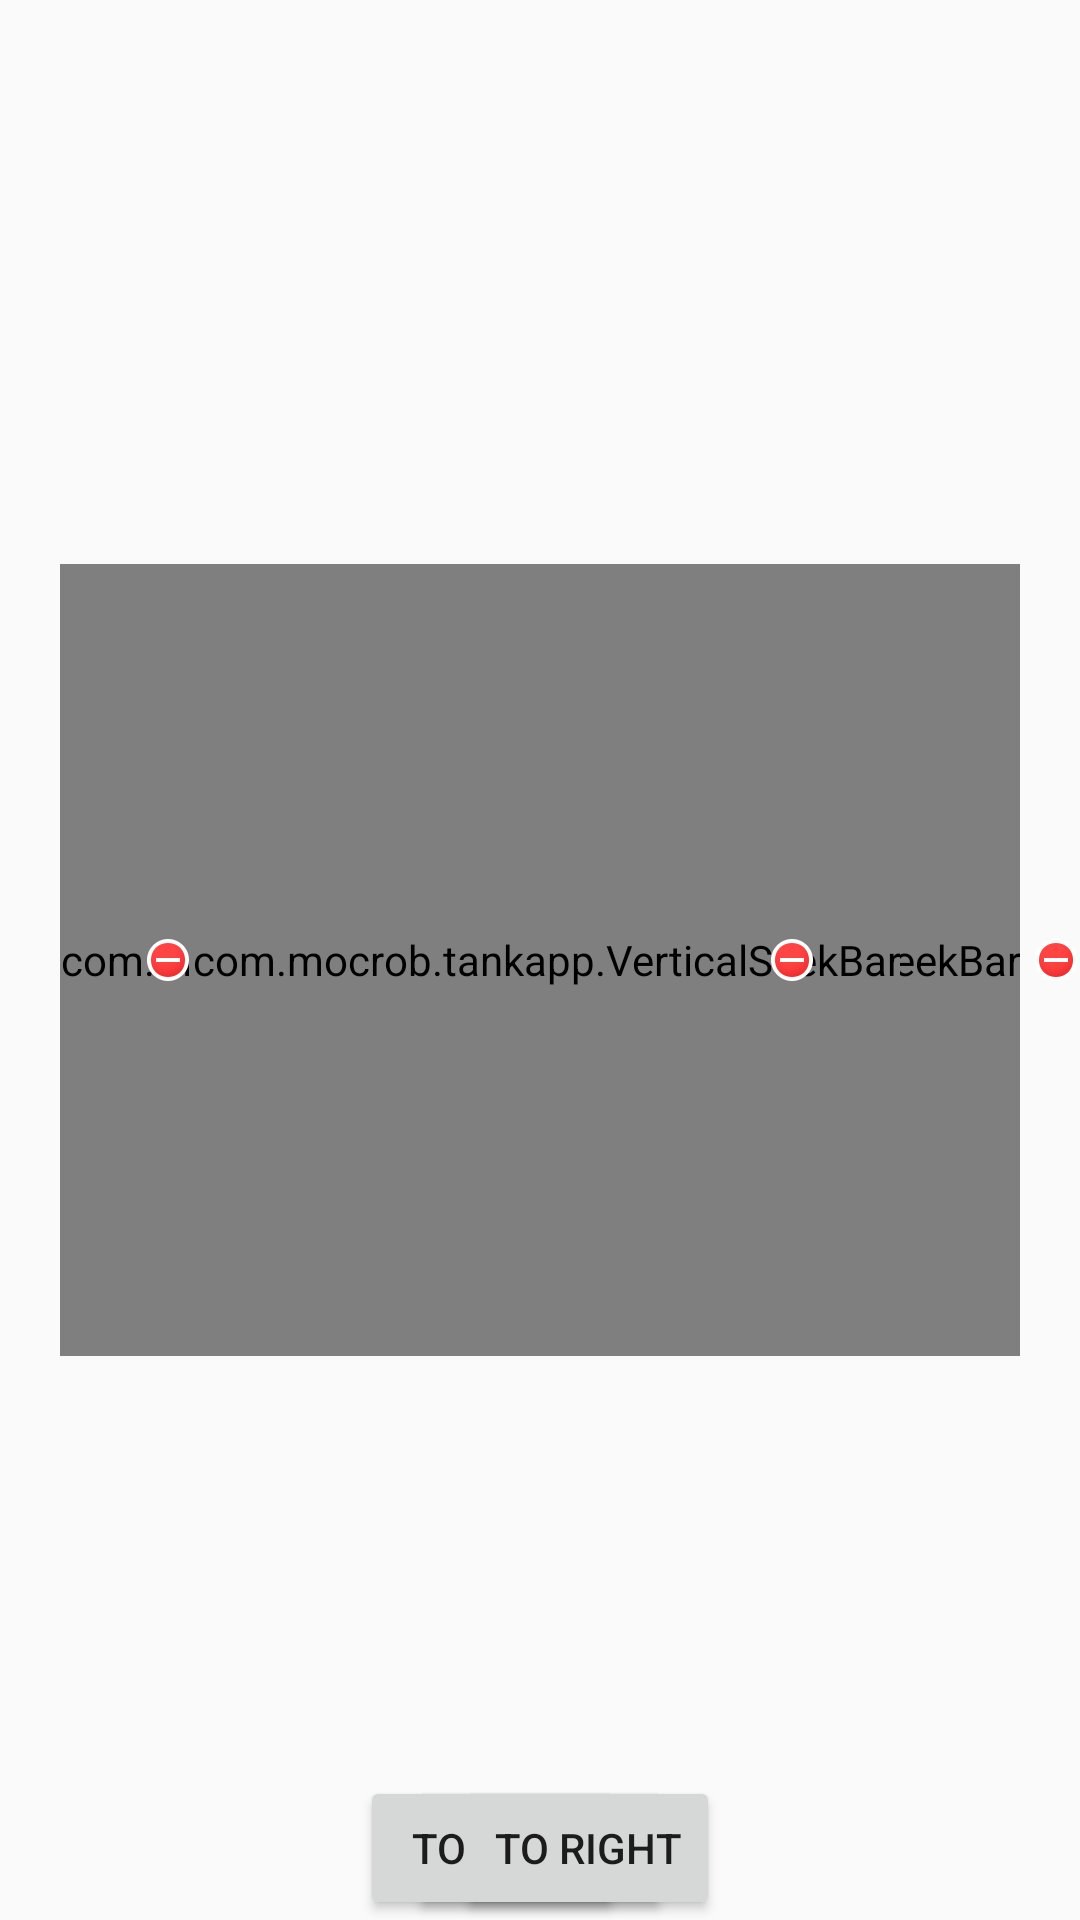

Point at icon controls on the screen. Image size 1080w x 1920h, points as point (x, y).
presence busy: point (168, 960), point (792, 960), point (1056, 960)
